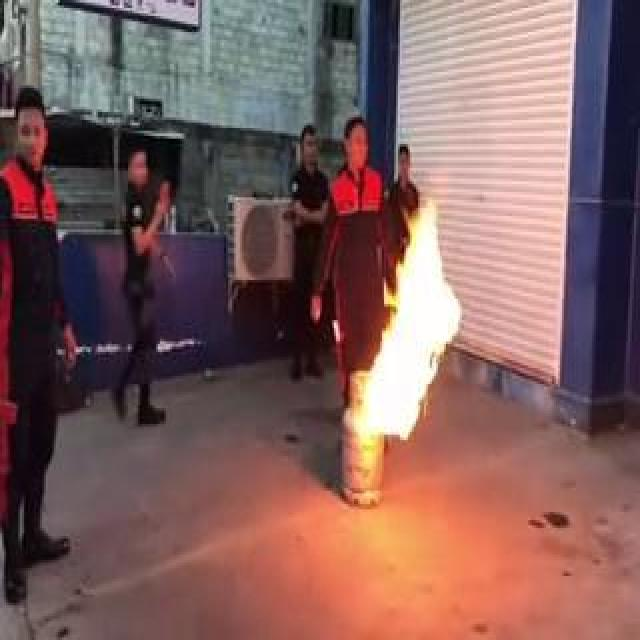Smoke: (363, 192, 461, 448)
